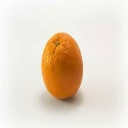orange: (41, 34, 85, 102)
